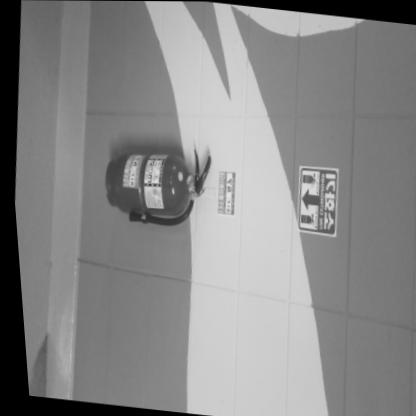FE: (95, 138, 212, 230)
